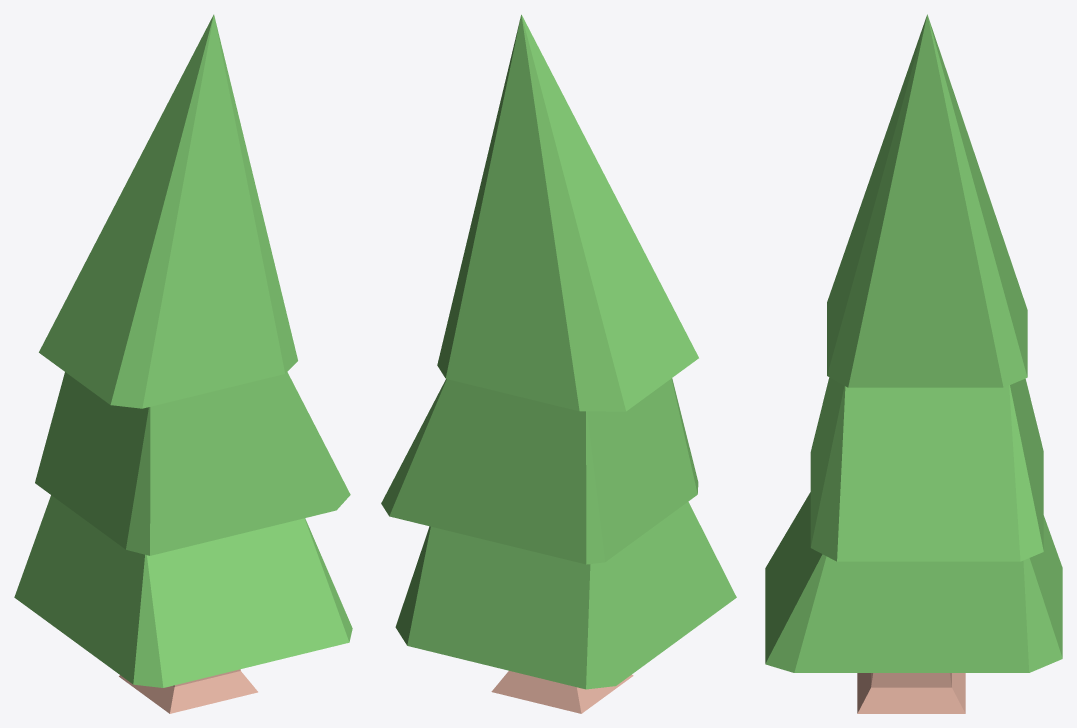
Rendered from tree_pineSmallB.glb.
3 renders of one model, left to right at view 1: azimuth 30°, elevation 25°; view 2: azimuth 150°, elevation 25°; view 3: azimuth 270°, elevation 25°, orthographic. The views are drawn at different scales.
Parts seen in each view (by area): view 1: tree_pineSmallB; view 2: tree_pineSmallB; view 3: tree_pineSmallB.
Boxes of the visible parts, x1,y1,x2,y2 form: tree_pineSmallB: [14, 14, 352, 713]; tree_pineSmallB: [381, 14, 736, 713]; tree_pineSmallB: [765, 14, 1062, 713].
Bounding box in the file's own units: 0.3863 × 1.01 × 0.392.
